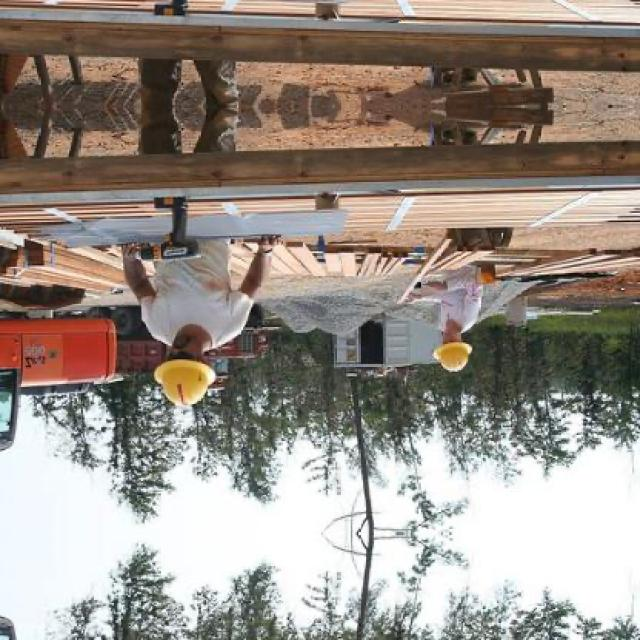con casco: (128, 358, 210, 439), (422, 336, 480, 381)
